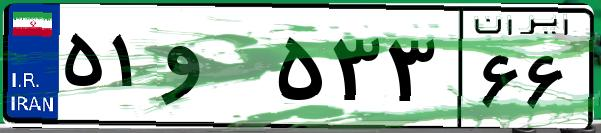1: (110, 28, 158, 98)
3: (385, 28, 445, 110), (330, 28, 385, 110)
5: (270, 28, 330, 110), (57, 26, 110, 100)
6: (475, 38, 525, 113), (525, 38, 570, 115)
و: (158, 20, 270, 120)
